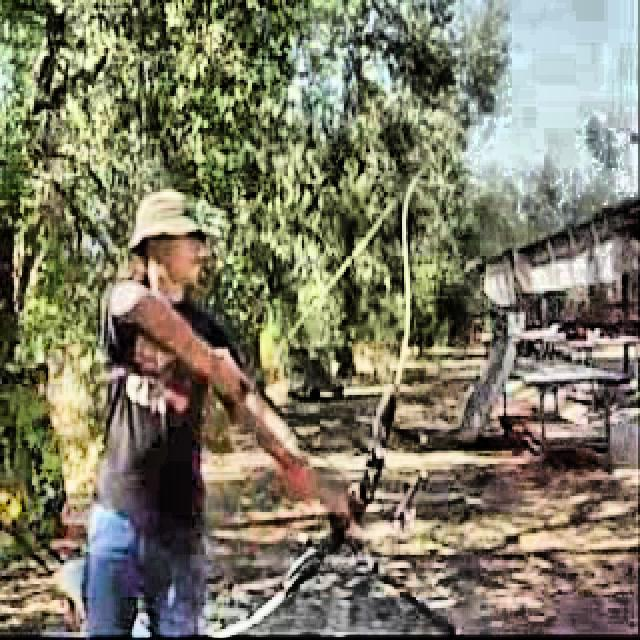I: (82, 186, 370, 640)
